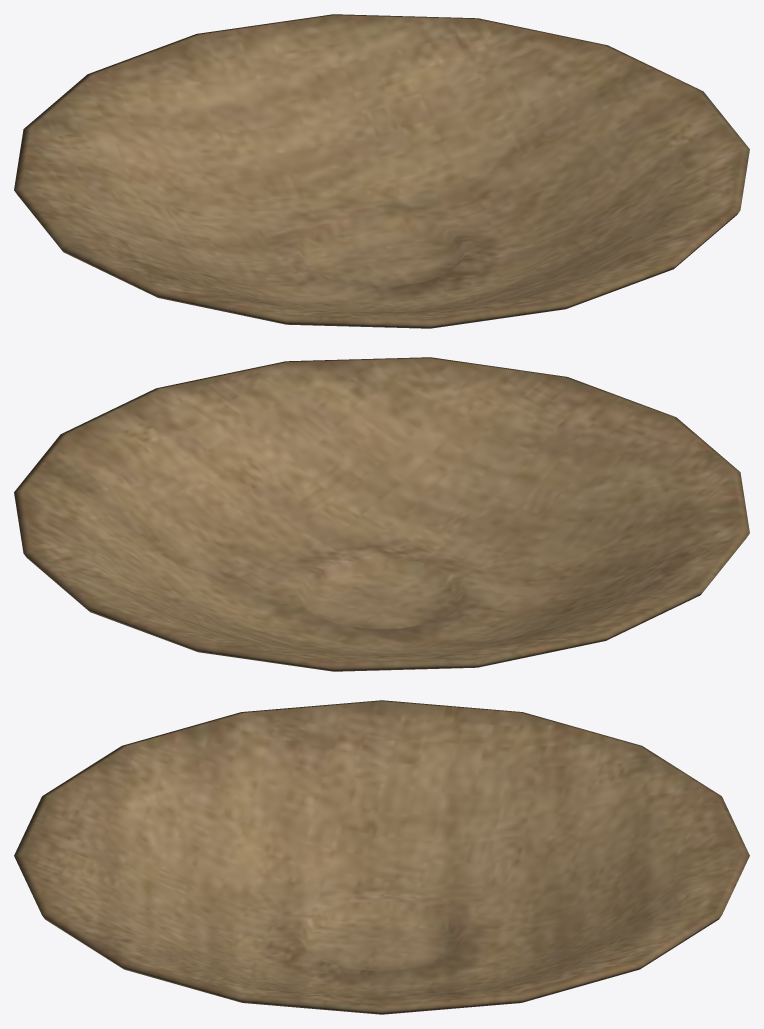
The model's file is plate.gltf.
The picture shows the model from 3 angles, top to bottom: view 1: azimuth 30°, elevation 25°; view 2: azimuth 150°, elevation 25°; view 3: azimuth 270°, elevation 25°; orthographic projection.
Visible parts, largest first — view 1: Pottery_9; view 2: Pottery_9; view 3: Pottery_9.
Part boxes in pixels (<box>): Pottery_9: <box>14,14,749,328</box>; Pottery_9: <box>14,357,749,671</box>; Pottery_9: <box>14,700,749,1014</box>.
Bounding box in the file's own units: 0.5239 × 0.0855 × 0.5239.
Materials: 1 (1 with a texture image).
